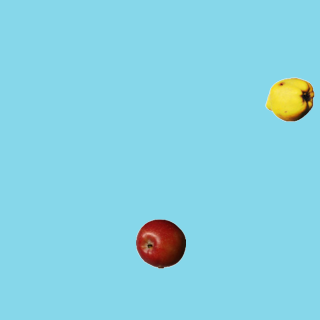Apple Braeburn: (135, 218, 185, 268)
Quince: (264, 74, 314, 124)
